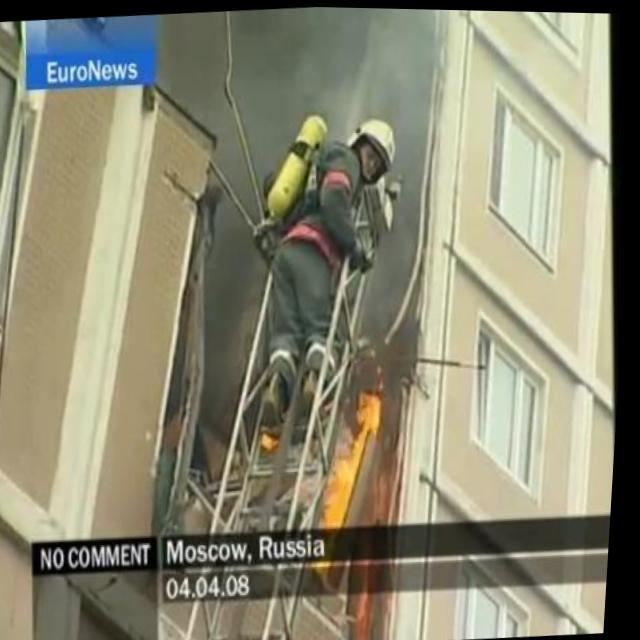fire: (316, 368, 403, 528), (264, 427, 286, 449)
